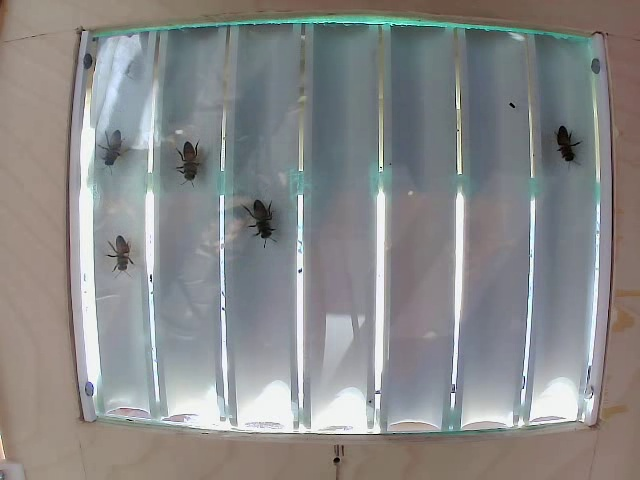bee: (239, 204, 286, 240), (91, 121, 126, 167), (163, 138, 203, 176), (102, 236, 144, 265), (548, 125, 572, 166)
